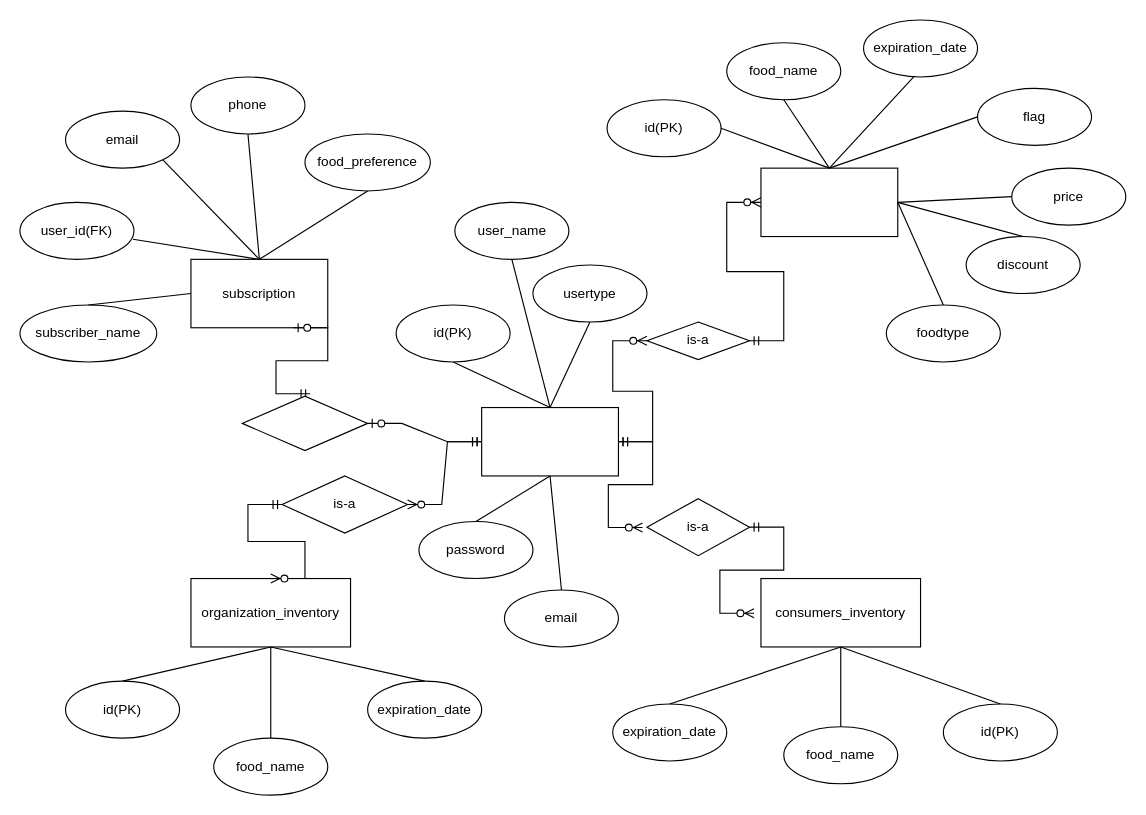
Image size: 1146x815. Some labels were removed from this diagram. The shapes that lost their labels are listed below. From the top down, each one's centre as x and y in pixels, then its label:
At [829,202]: "retailer_inventory".
At [304,423]: "has-a".
At [549,441]: "user".
